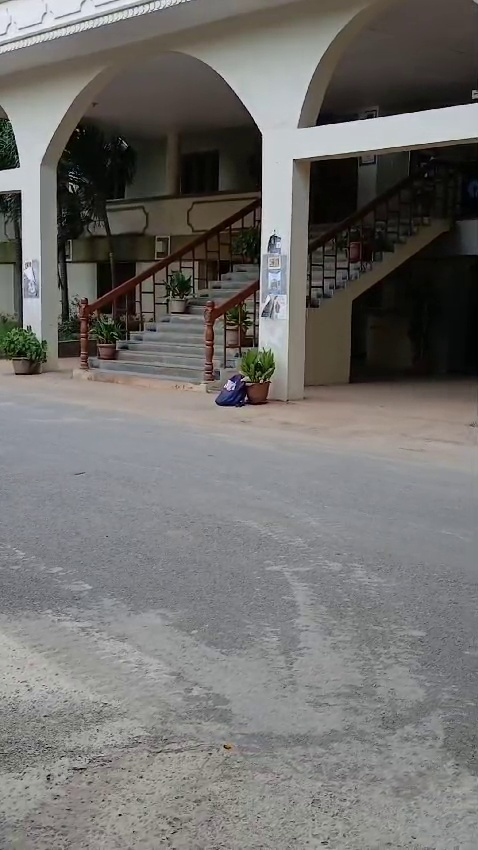bag: (208, 372, 244, 403)
